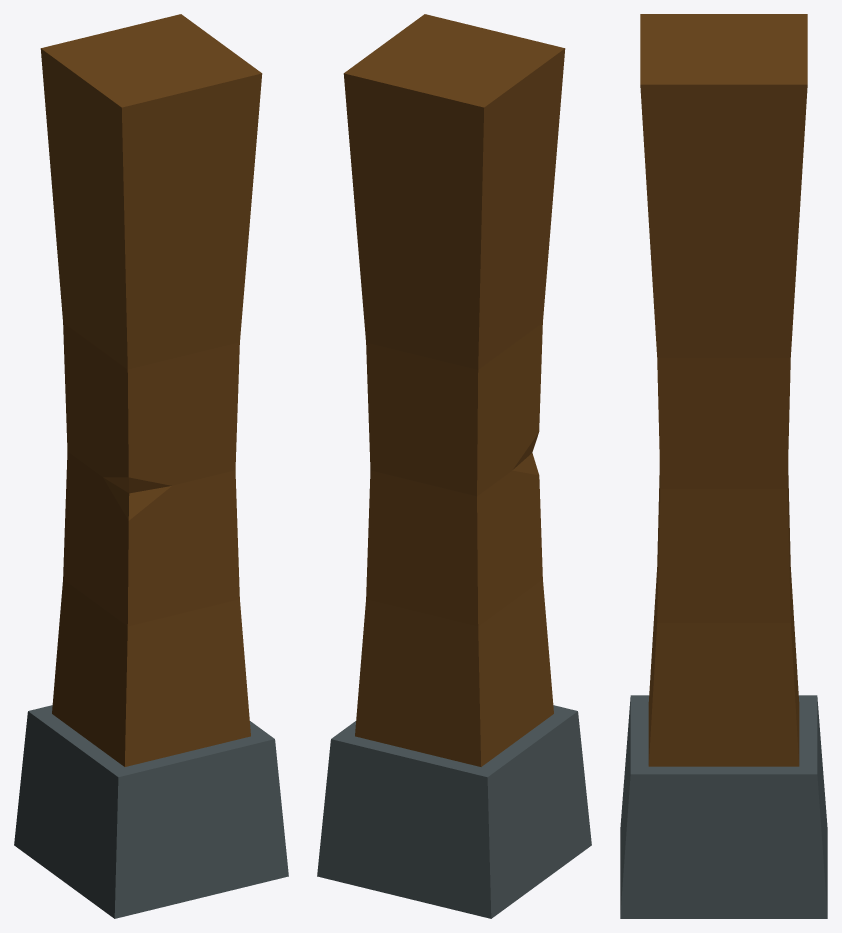
File: Wall_06.fbx
3 views of the same model, side by side, from view 1: azimuth 30°, elevation 25°; view 2: azimuth 150°, elevation 25°; view 3: azimuth 270°, elevation 25° (orthographic). The views are drawn at different scales.
Parts seen in each view (by area): view 1: Wall_06; view 2: Wall_06; view 3: Wall_06.
Part boxes in pixels (x1=…): Wall_06: x1=14, y1=14, x2=288, y2=918; Wall_06: x1=317, y1=14, x2=591, y2=918; Wall_06: x1=620, y1=14, x2=827, y2=918.
Bounding box in the file's own units: 64.76 × 284 × 64.76.
